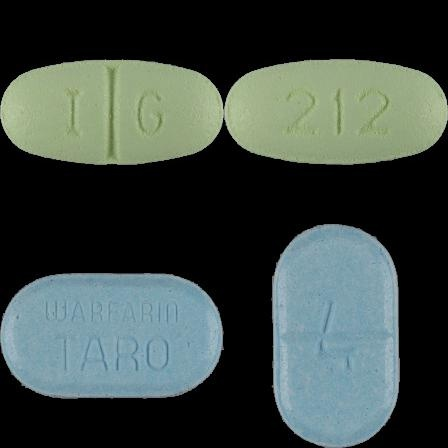49349-899: (0, 0, 224, 224)
